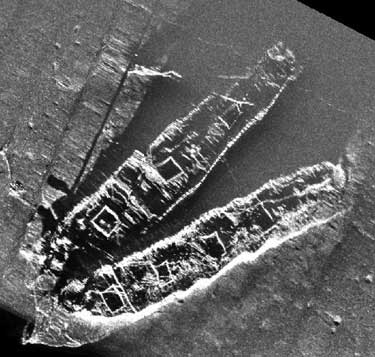ship: (46, 44, 299, 258), (54, 163, 346, 322), (38, 3, 153, 210)
